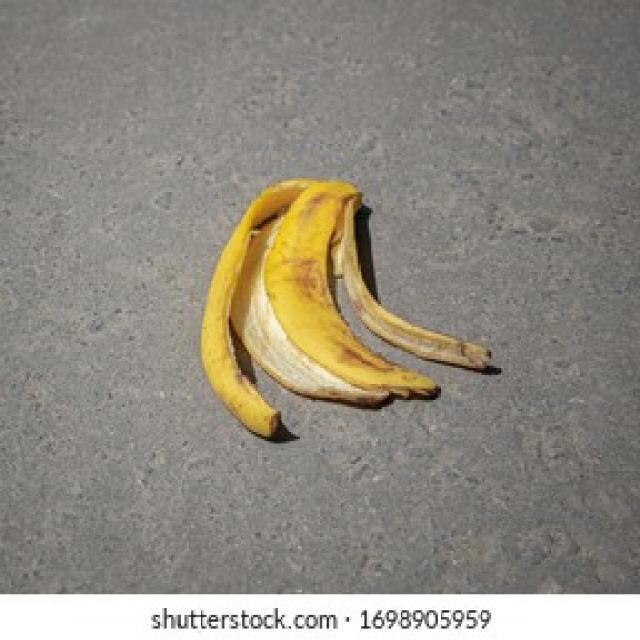banana-peel: (199, 175, 500, 442)
